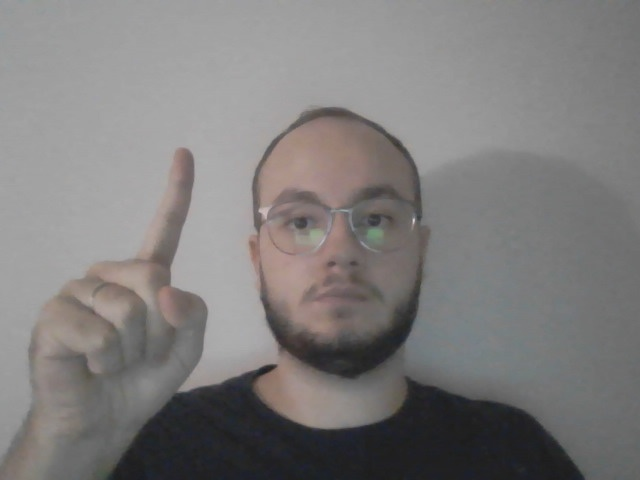One: (27, 148, 207, 437)
